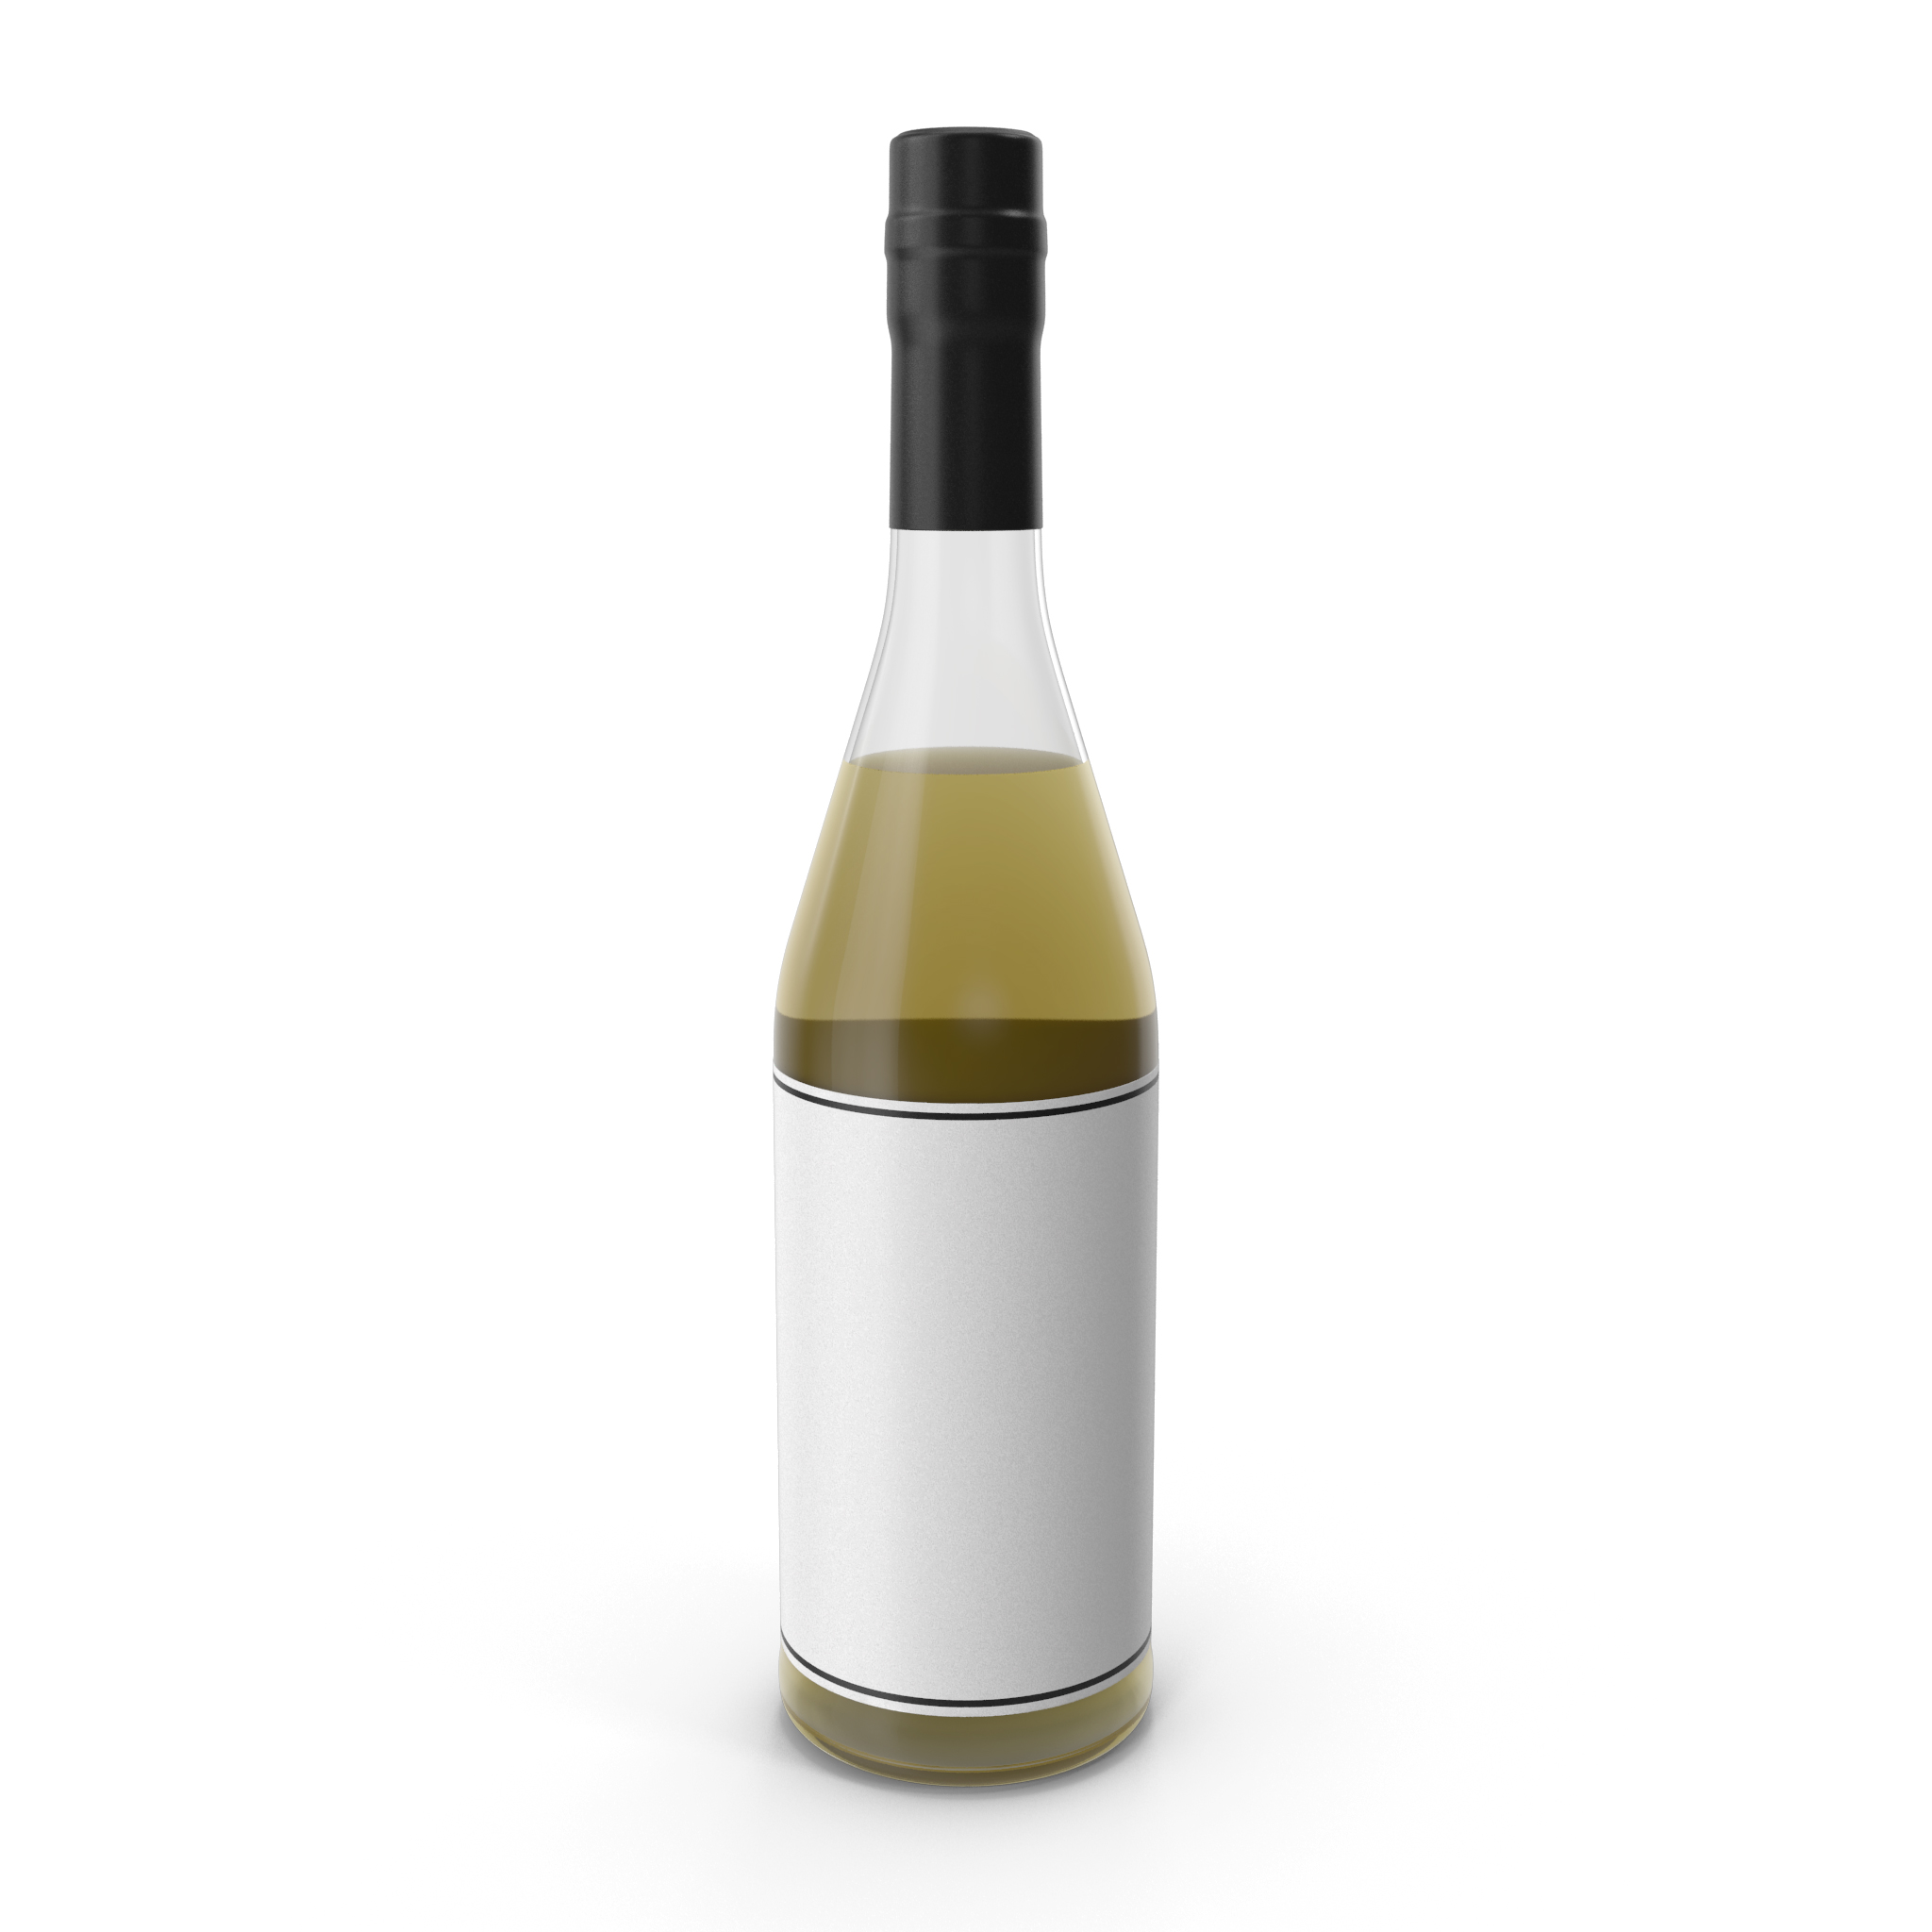wine: (749, 116, 1179, 1806)
